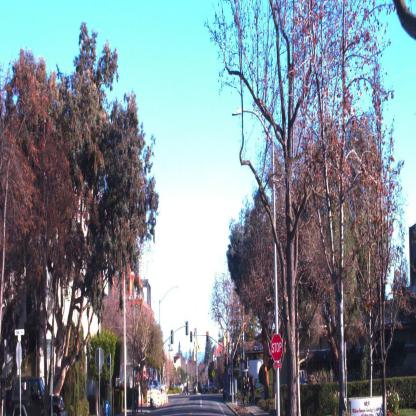car: (8, 366, 65, 415)
stop sign: (270, 334, 284, 362)
traffic light: (170, 327, 174, 344), (184, 321, 188, 334), (224, 352, 227, 364), (206, 332, 209, 342), (190, 331, 192, 345), (230, 370, 231, 376)
